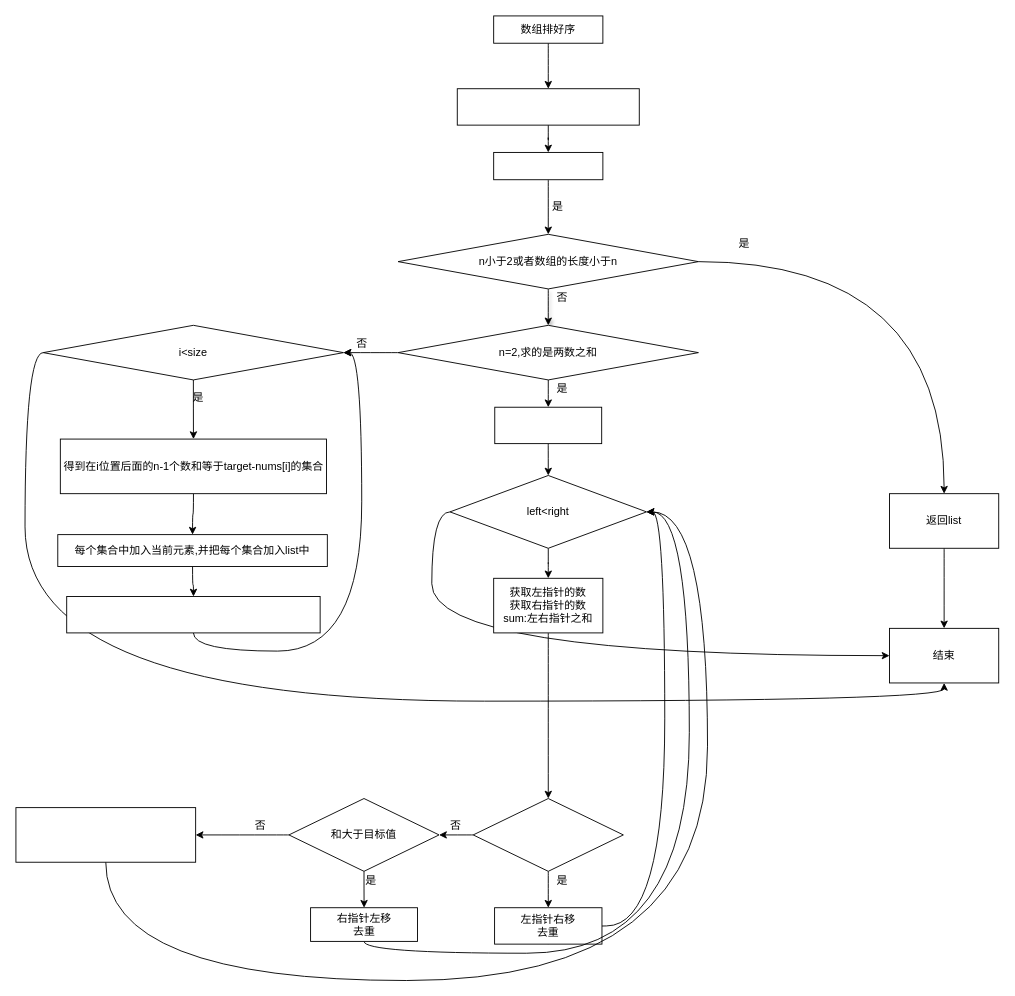
The diagram is 1015 pixels wide and 996 high, and some of its shapes have lost their labels. The shapes that lost their labels are listed below. From the top down, each one's centre as x and y in pixels, then its label:
At (x=547, y=106): "size:数组长度".
At (x=548, y=166): "list存放结果".
At (x=548, y=425): "设置左右指针".
At (x=193, y=614): "去重遇到相同的元素跳过 i++".
At (x=105, y=834): "在list中加入一组元素 对左右指针去重".
At (x=547, y=834): "和小于目标值".
